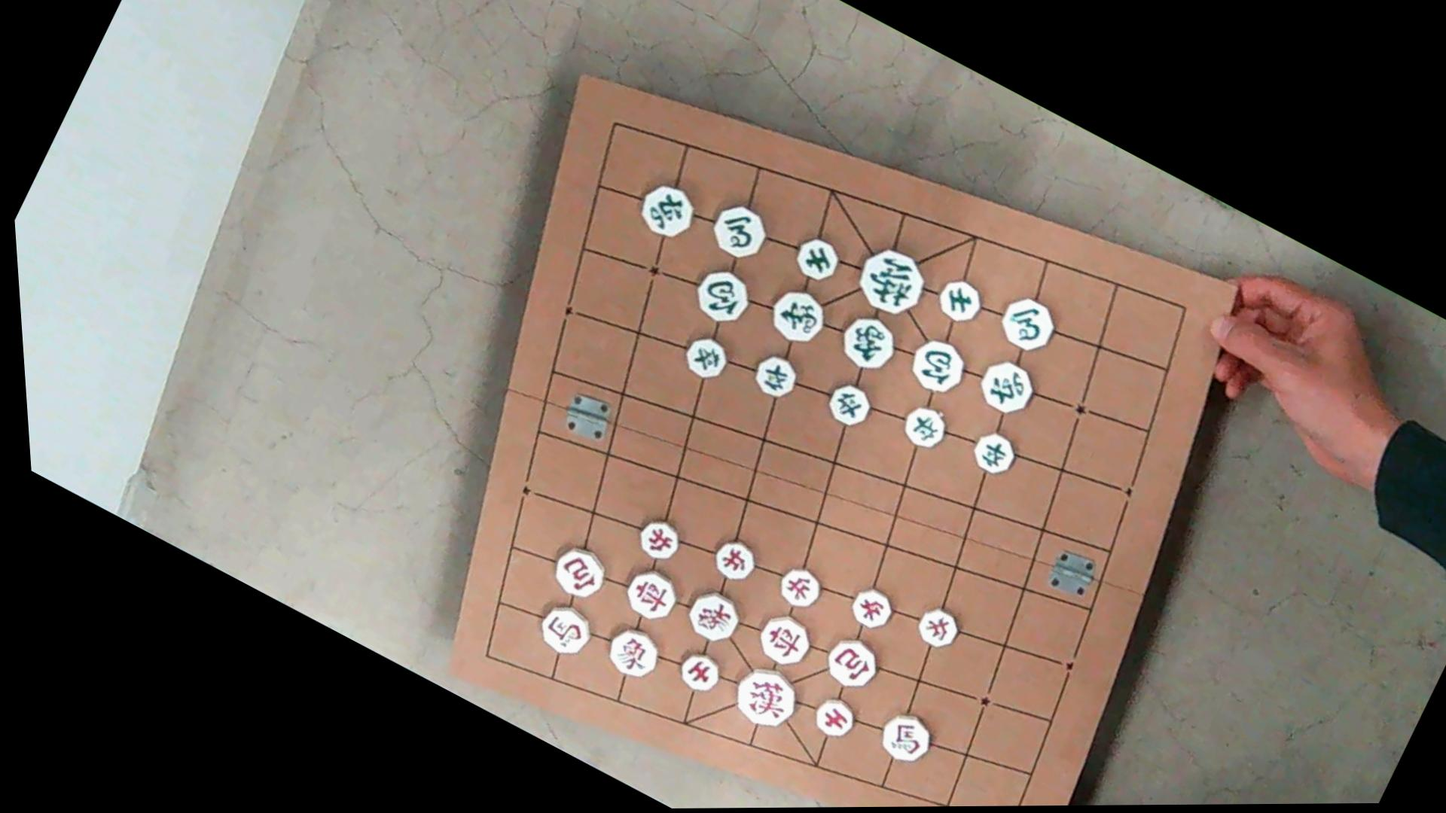cha_green: (633, 177, 705, 245), (972, 354, 1043, 421)
cha_red: (752, 609, 819, 672), (618, 563, 685, 626)
jol_green: (677, 331, 735, 385), (897, 400, 954, 454), (966, 427, 1023, 481), (822, 379, 878, 433), (749, 350, 804, 403)
jol_red: (632, 515, 688, 566), (773, 563, 828, 614), (846, 583, 899, 635), (912, 602, 966, 653), (709, 536, 762, 586)
ma_green: (993, 291, 1063, 358), (706, 199, 775, 266)
ma_red: (533, 599, 599, 662), (874, 707, 940, 769)
po_green: (903, 332, 975, 400), (688, 263, 758, 329)
po_red: (546, 540, 614, 604), (819, 631, 886, 695)
sa_green: (789, 232, 846, 287), (933, 276, 988, 327)
sa_red: (807, 692, 862, 744), (673, 647, 728, 698)
sang_green: (832, 309, 905, 378), (764, 283, 834, 350)
sang_red: (600, 621, 667, 684), (681, 586, 748, 648)
wang_green: (847, 240, 936, 324)
wang_red: (726, 659, 808, 737)
